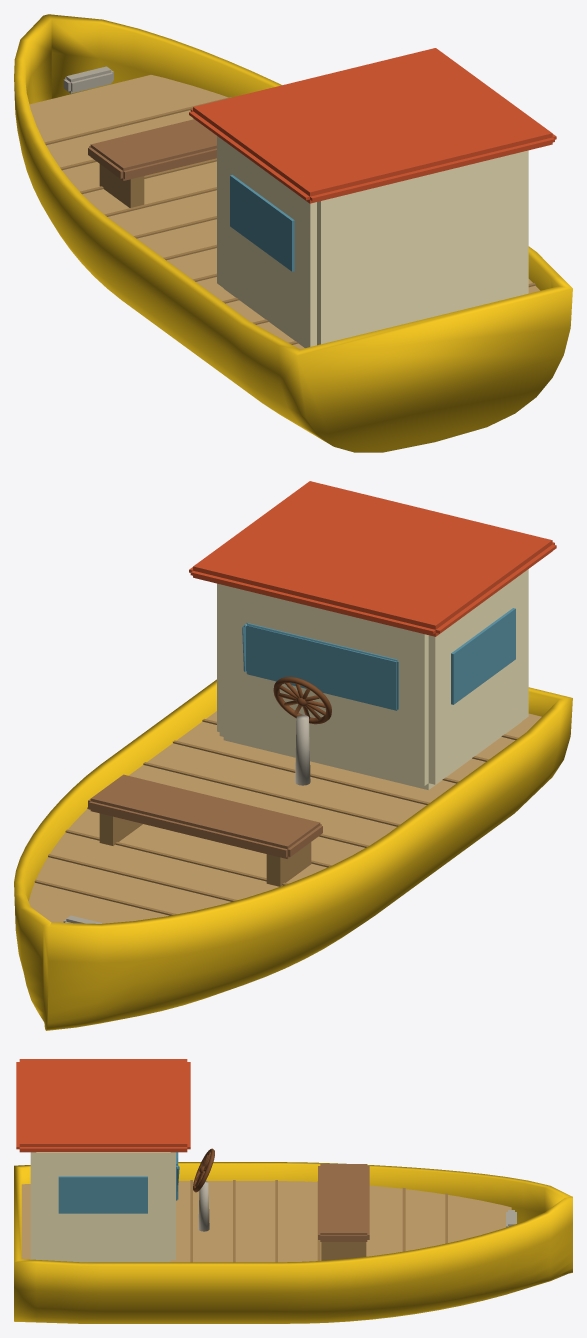
Rendered from boat.glb.
The picture shows the model from 3 angles, top to bottom: view 1: azimuth 30°, elevation 25°; view 2: azimuth 150°, elevation 25°; view 3: azimuth 270°, elevation 25°; orthographic projection. The views are drawn at different scales.
Parts seen in each view (by area): view 1: Boat_Hull, Boat_Cabin, Boat_CabinRoof, Boat_Deck, Boat_Bench, Boat_Windows, Boat_DeckPlanks, Boat_BenchLegs, Boat_BowCleat; view 2: Boat_Hull, Boat_Cabin, Boat_Deck, Boat_CabinRoof, Boat_Windows, Boat_Bench, Boat_DeckPlanks, Boat_BenchLegs, Boat_Helm, Boat_HelmStand; view 3: Boat_Hull, Boat_Deck, Boat_CabinRoof, Boat_Cabin, Boat_Bench, Boat_Windows, Boat_DeckPlanks, Boat_BenchLegs, Boat_HelmStand, Boat_Helm.
Part boxes in pixels (x1,y1,x2,y2): Boat_Hull: (14, 14, 572, 452); Boat_Cabin: (217, 136, 528, 347); Boat_CabinRoof: (189, 48, 556, 203); Boat_Deck: (29, 75, 540, 349); Boat_Bench: (88, 119, 216, 180); Boat_Windows: (230, 175, 294, 271); Boat_DeckPlanks: (44, 97, 535, 344); Boat_BenchLegs: (99, 164, 144, 207); Boat_BowCleat: (63, 66, 113, 93); Boat_Hull: (14, 679, 572, 1030); Boat_Cabin: (217, 569, 528, 789); Boat_Deck: (28, 711, 541, 923); Boat_CabinRoof: (189, 481, 556, 636); Boat_Windows: (242, 608, 515, 710); Boat_Bench: (88, 774, 322, 858); Boat_DeckPlanks: (34, 719, 518, 915); Boat_BenchLegs: (99, 813, 311, 886); Boat_Helm: (273, 676, 331, 724); Boat_HelmStand: (295, 715, 310, 785); Boat_Hull: (14, 1162, 572, 1323); Boat_Deck: (21, 1181, 511, 1262); Boat_CabinRoof: (16, 1059, 190, 1152); Boat_Cabin: (30, 1152, 175, 1262); Boat_Bench: (318, 1164, 369, 1241); Boat_Windows: (58, 1152, 179, 1213); Boat_DeckPlanks: (190, 1180, 447, 1262); Boat_BenchLegs: (321, 1242, 366, 1260); Boat_HelmStand: (198, 1181, 209, 1231); Boat_Helm: (193, 1148, 214, 1192).
Bounding box in the file's own units: 2.2 × 1.96 × 5.
